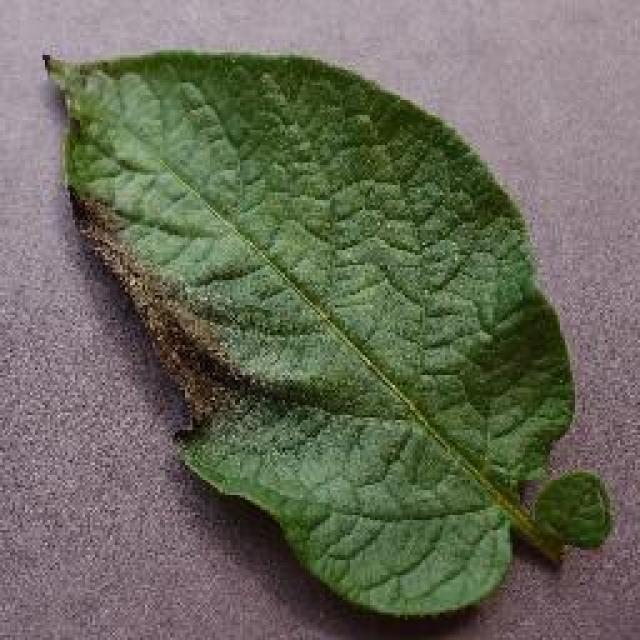Potato: (40, 45, 610, 620)
